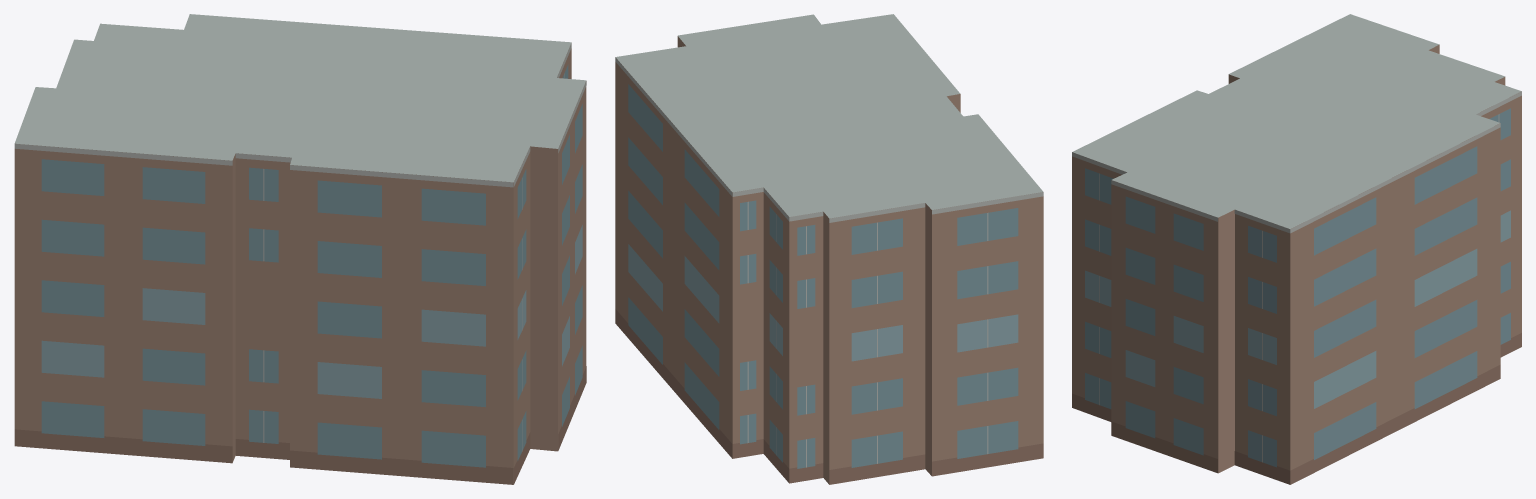
The model's file is survey-upis-32670541.glb.
3 views of the same model, side by side, from view 1: azimuth 30°, elevation 25°; view 2: azimuth 150°, elevation 25°; view 3: azimuth 270°, elevation 25° (orthographic). The views are drawn at different scales.
Visible parts, largest first — view 1: survey-upis-32670541.tmp; view 2: survey-upis-32670541.tmp; view 3: survey-upis-32670541.tmp.
Part boxes in pixels (x1,y1,x2,y2): survey-upis-32670541.tmp: (14,14,586,484); survey-upis-32670541.tmp: (615,14,1043,484); survey-upis-32670541.tmp: (1072,14,1521,484).
Size of the model in its own units: 26.36 by 14.6 by 23.28.
